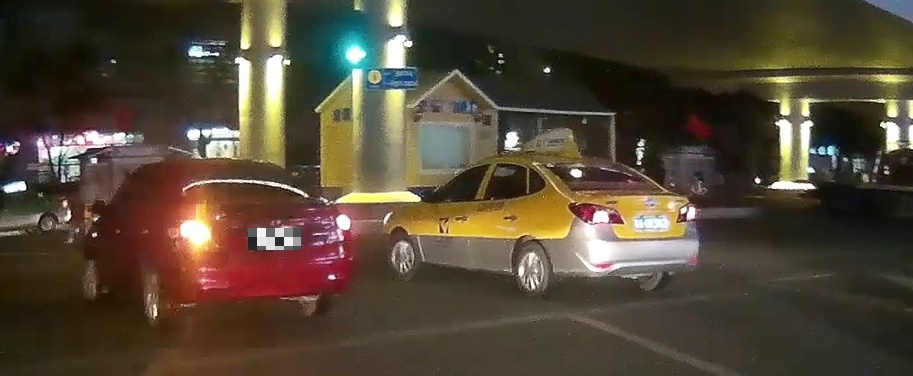L_light: (568, 202, 624, 225), (180, 222, 220, 249)
R_light: (325, 213, 351, 245), (676, 200, 699, 224)
T_light: (234, 168, 255, 175), (582, 163, 600, 168)
night-left: (165, 159, 356, 330)
night-no: (541, 153, 700, 299)
plate_1: (248, 228, 301, 250)
